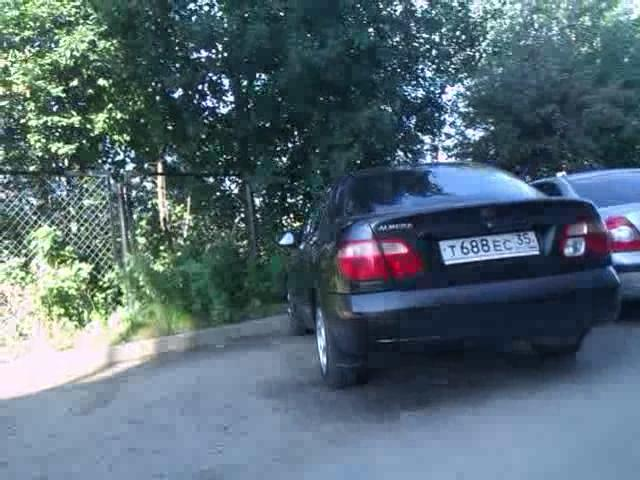car license plate: (438, 227, 542, 266)
